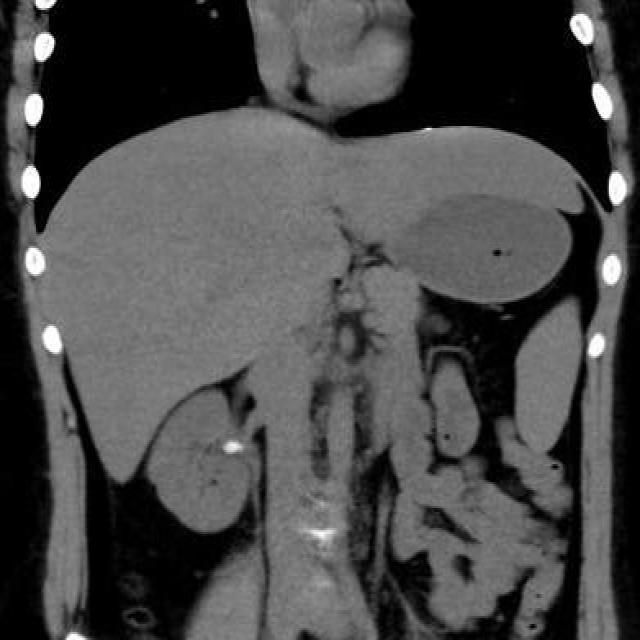Tas_Var: (222, 437, 245, 457)
